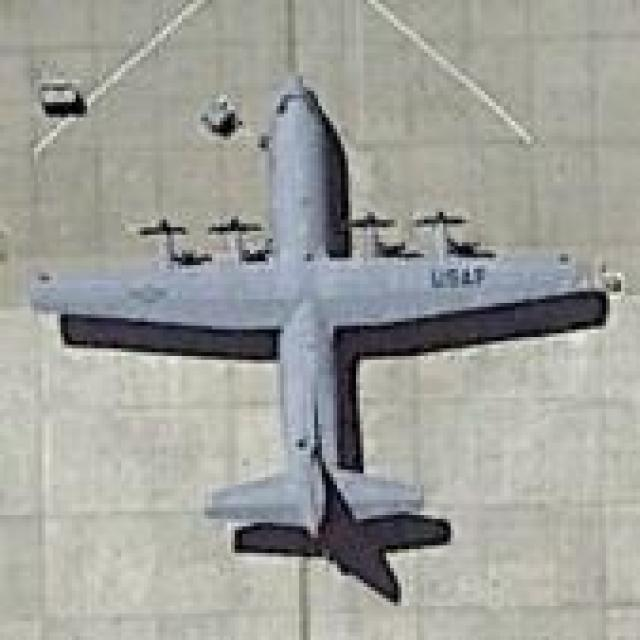C-130_TopDown: (27, 73, 611, 605)
